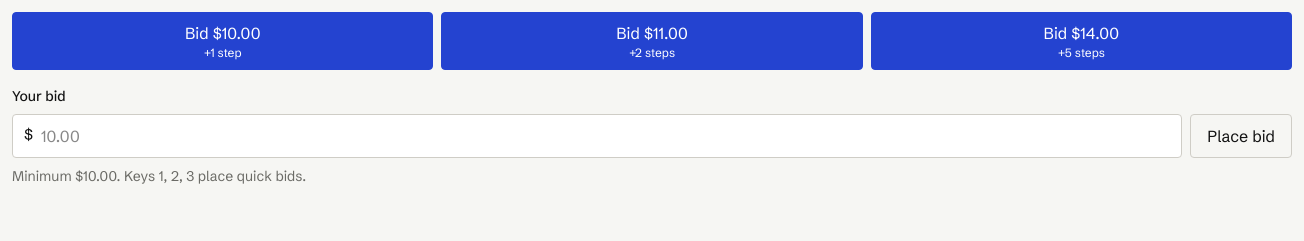
it: TC-190: ALREADY_LEADING renders its exact PRD copy
Click the button "Bid $10.00 +1 step" at x=223, y=41, box [12,12,433,70]
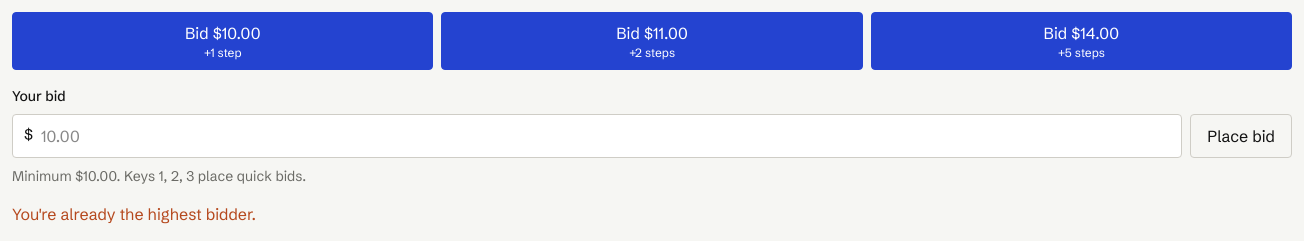
expect the message reads "You're already the highest bidder.": met, box [12,204,256,224]
